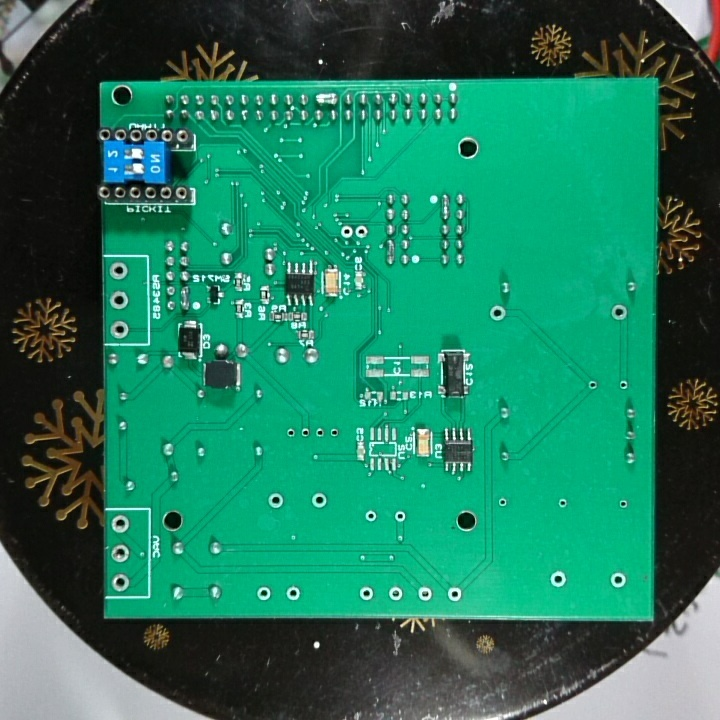F: (109, 543, 132, 566), (110, 572, 134, 594), (108, 288, 130, 312), (108, 260, 130, 283), (108, 320, 133, 340), (110, 512, 131, 535), (608, 570, 629, 592), (548, 569, 569, 590), (309, 490, 330, 511), (283, 583, 303, 605), (386, 583, 405, 605), (266, 490, 285, 512), (488, 304, 507, 324), (445, 585, 464, 605), (254, 584, 273, 603), (610, 302, 628, 322), (416, 585, 435, 603), (358, 584, 375, 604), (354, 220, 370, 241), (338, 223, 354, 241), (364, 507, 379, 526), (585, 378, 599, 394), (617, 378, 630, 393), (616, 498, 629, 512), (284, 426, 297, 440), (393, 509, 405, 524), (299, 425, 311, 440), (556, 495, 568, 509), (496, 495, 508, 509), (314, 426, 326, 440), (328, 426, 339, 439)
P: (178, 283, 192, 313), (384, 236, 397, 268), (440, 192, 453, 221), (314, 91, 338, 106)
